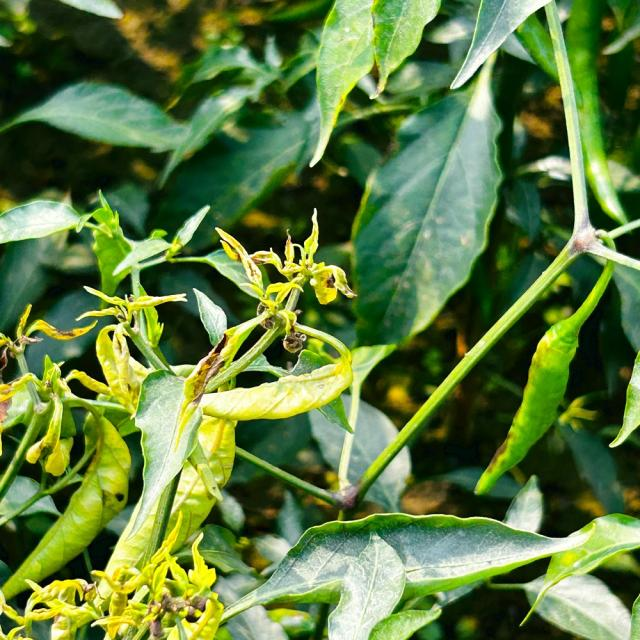Chilli_Leaf_Curl: (1, 1, 638, 638), (1, 193, 357, 638), (218, 510, 638, 638), (348, 53, 506, 348), (472, 252, 616, 496), (91, 368, 205, 605), (306, 0, 441, 168), (1, 78, 192, 154)
